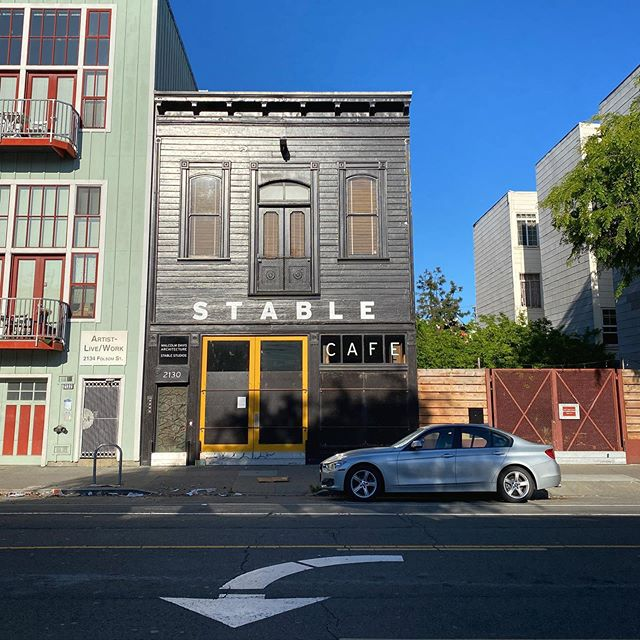building: (152, 105, 421, 451), (1, 1, 138, 461), (463, 122, 640, 343)
car: (308, 414, 568, 515)
door: (199, 335, 310, 442), (73, 373, 120, 465)
sky: (200, 1, 640, 106)
street: (15, 504, 640, 640)
